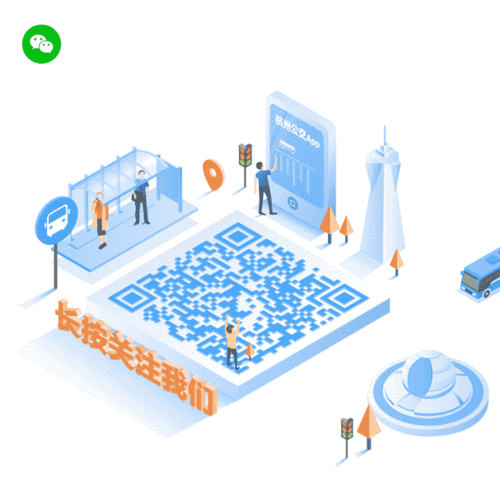QRCode: (110, 220, 370, 373)
